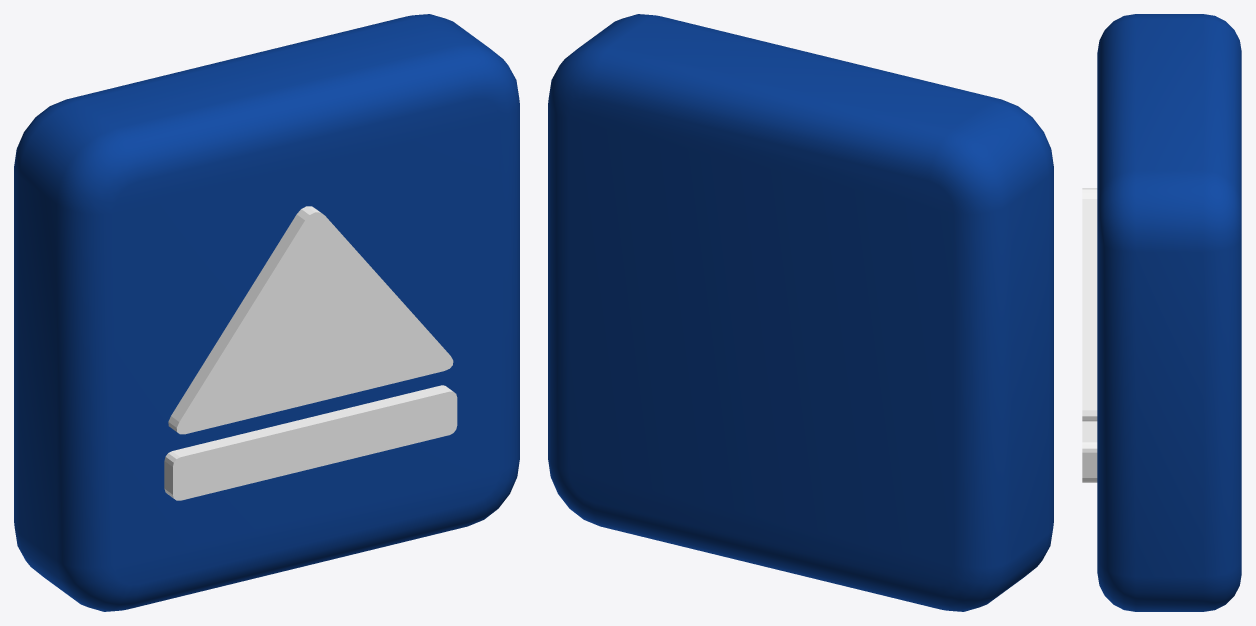
Rendered from eject_button.glb.
3 views of the same model, side by side, from view 1: azimuth 30°, elevation 25°; view 2: azimuth 150°, elevation 25°; view 3: azimuth 270°, elevation 25° (orthographic). The views are drawn at different scales.
Visible parts, largest first — view 1: Cube.6433; view 2: Cube.6433; view 3: Cube.6433.
Part boxes in pixels (x1=…): Cube.6433: x1=14, y1=14, x2=519, y2=611; Cube.6433: x1=548, y1=14, x2=1053, y2=611; Cube.6433: x1=1082, y1=14, x2=1241, y2=611.
Size of the model in its own units: 2.2 by 2.2 by 0.73.
Materials: 1 (1 with a texture image).
